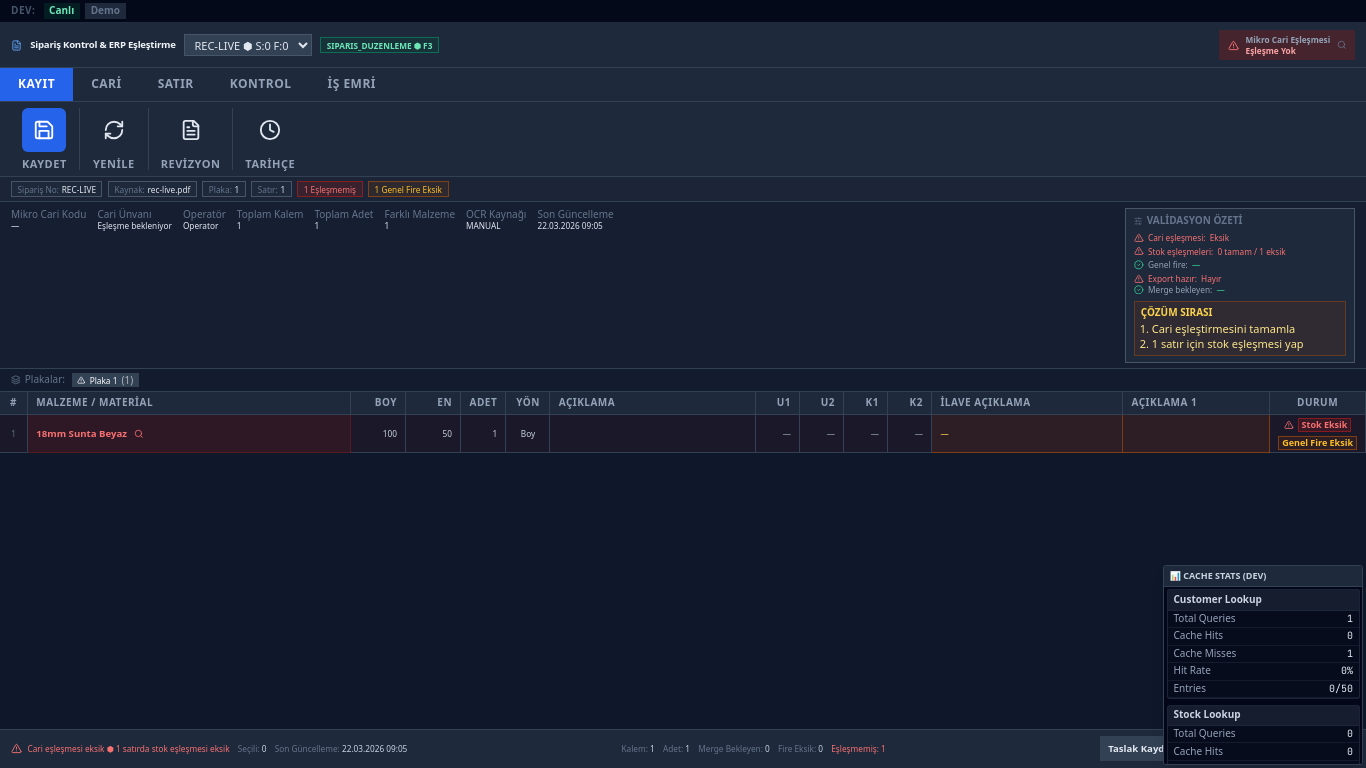
Test case: SiparisKontrolPage › canlı cari lookup boş dönünce sonuç yok bilgisini gösterir
Click the tab "CARİ" at (106, 84), box [73, 68, 140, 101]
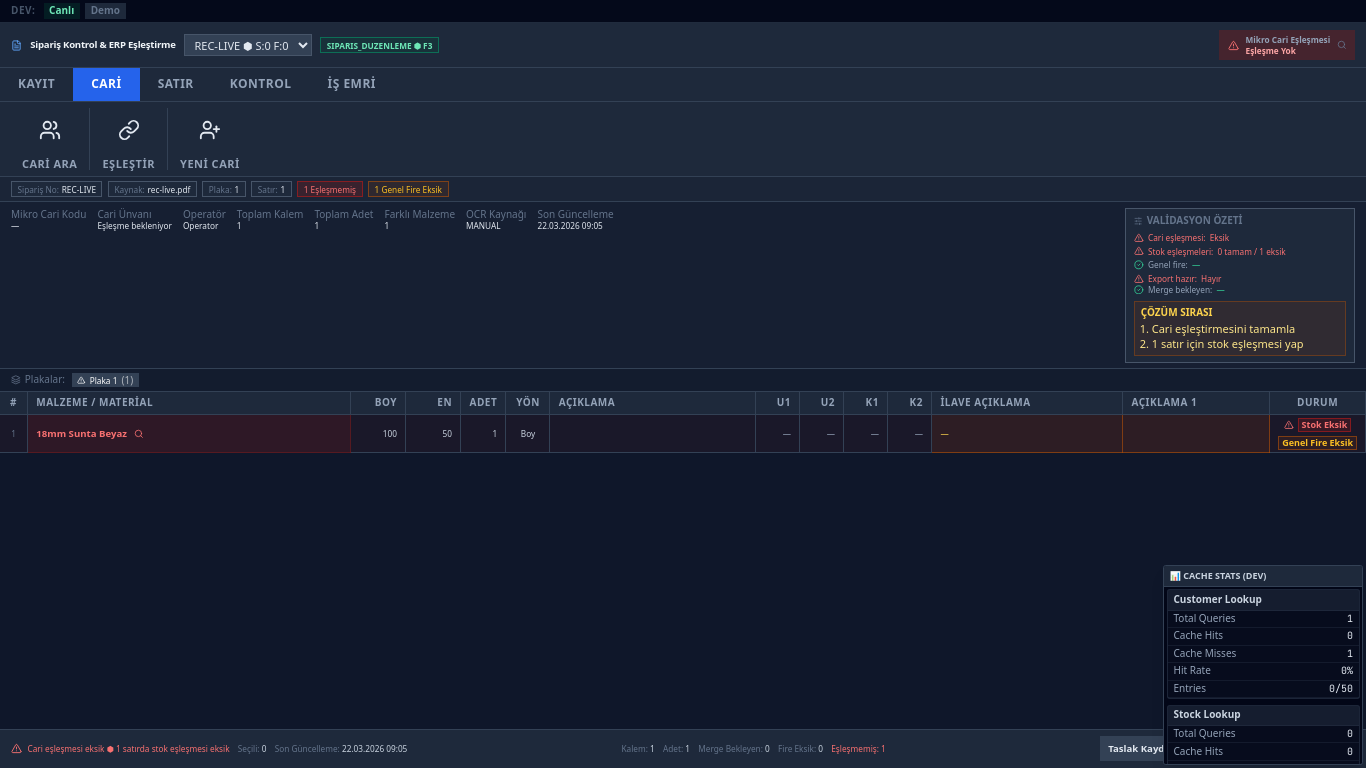
Click the button named "Cari Ara" at (50, 130), box [28, 108, 72, 152]
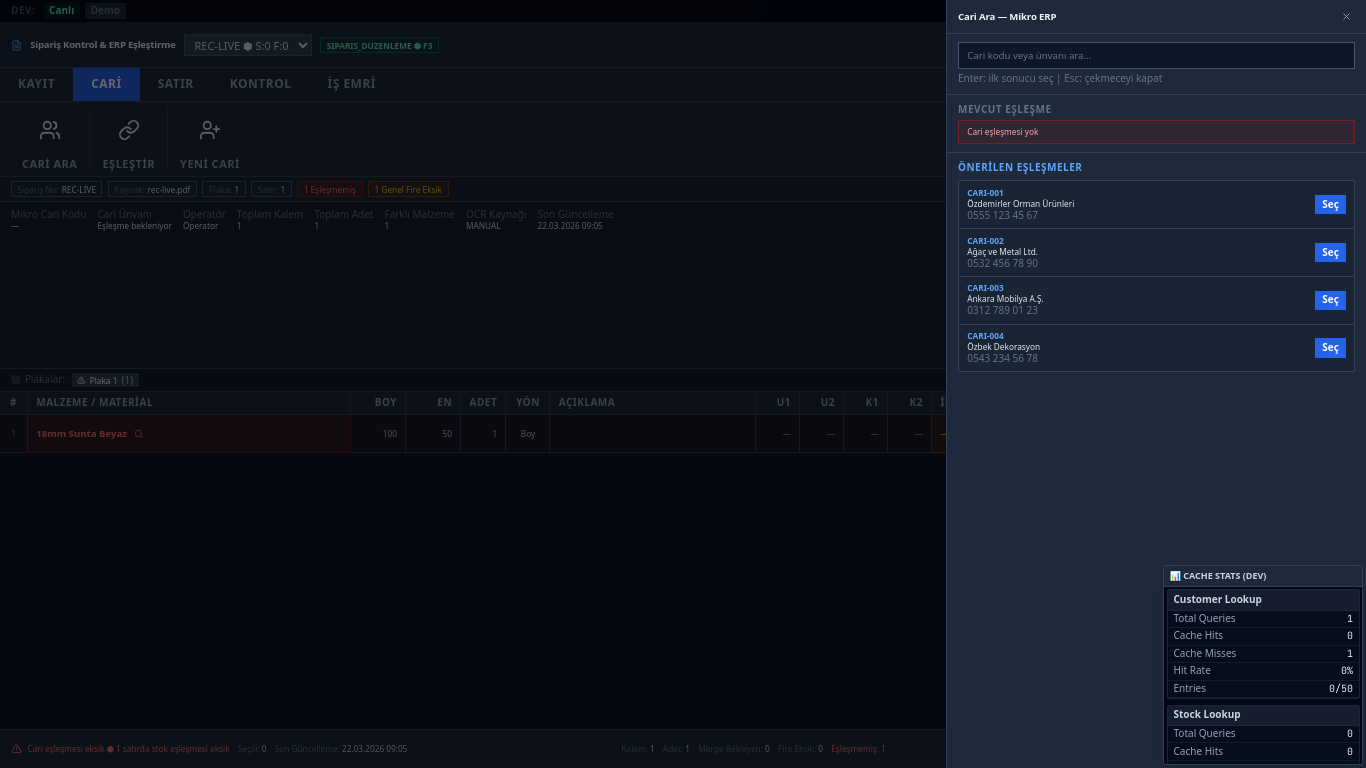
Type "CARI-001" into the search field with placeholder "Cari kodu veya ünvanı ara..." at (1156, 56), box [958, 42, 1355, 69]
Wait 300 ms
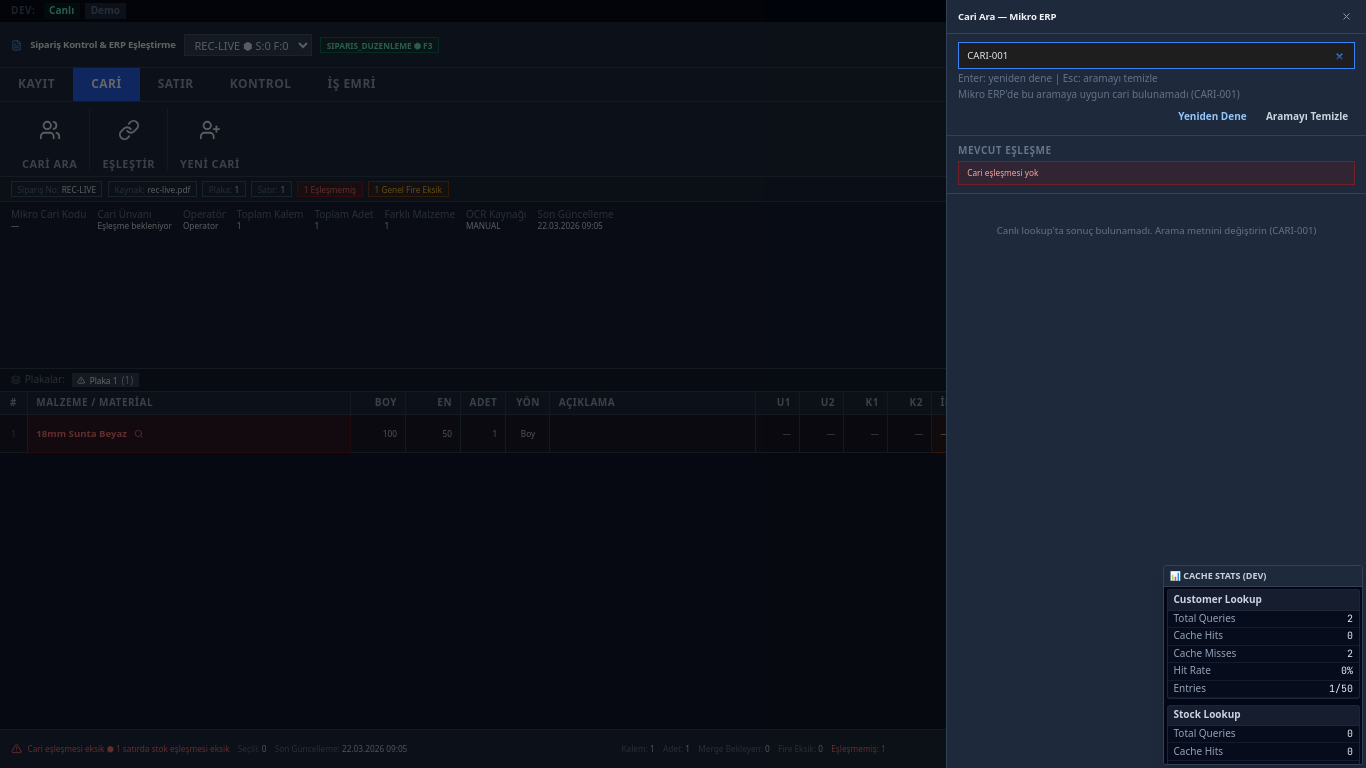
expect the text "Mikro ERP'de bu aramaya uygun cari bulunamadı (CARI-001)" is shown: met, box [958, 87, 1240, 101]
expect the text "Canlı lookup'ta sonuç bulunamadı" is shown: met, box [997, 224, 1316, 237]
